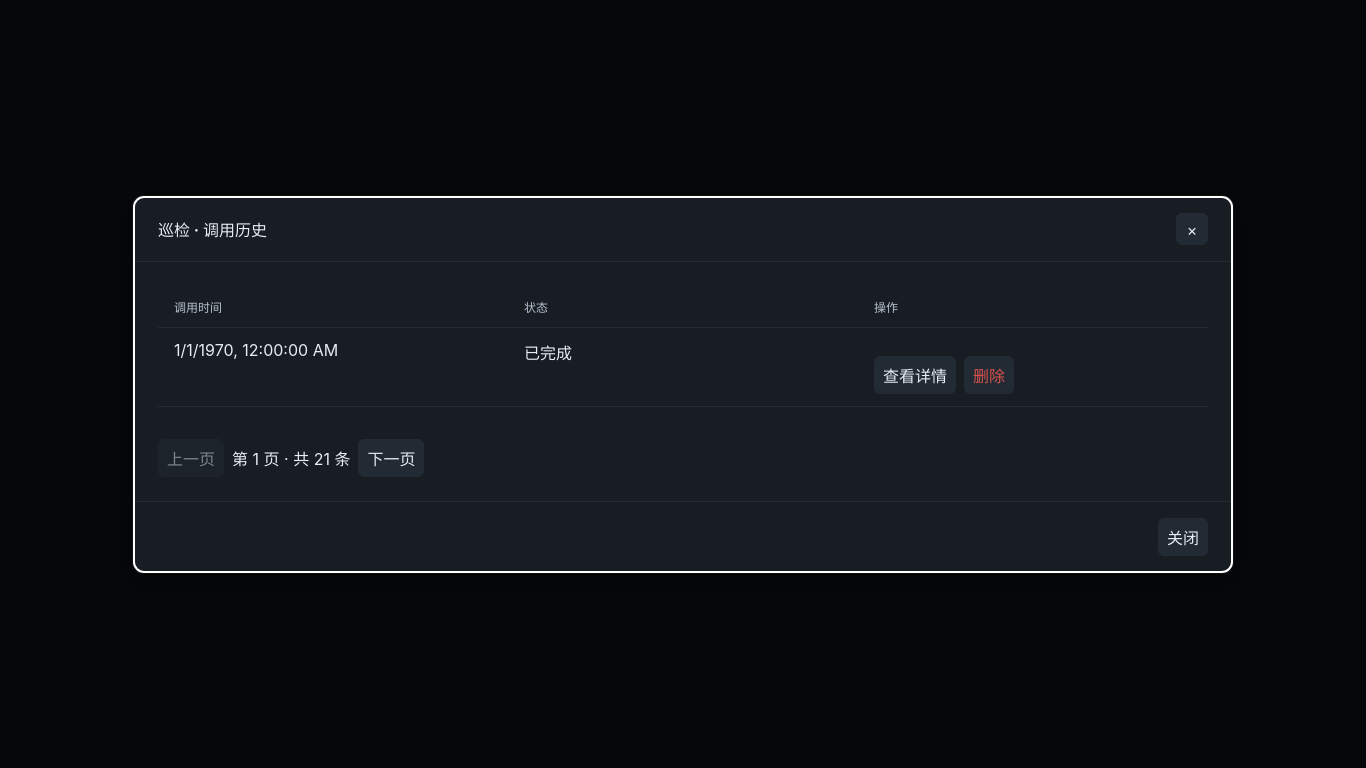
Test: returns to the previous page after deleting the last row
The image size is (1366, 768).
Expected: the button "删除" is shown, [964,356,1014,394]
Click the button "下一页" at (392, 458), box [358,438,424,476]
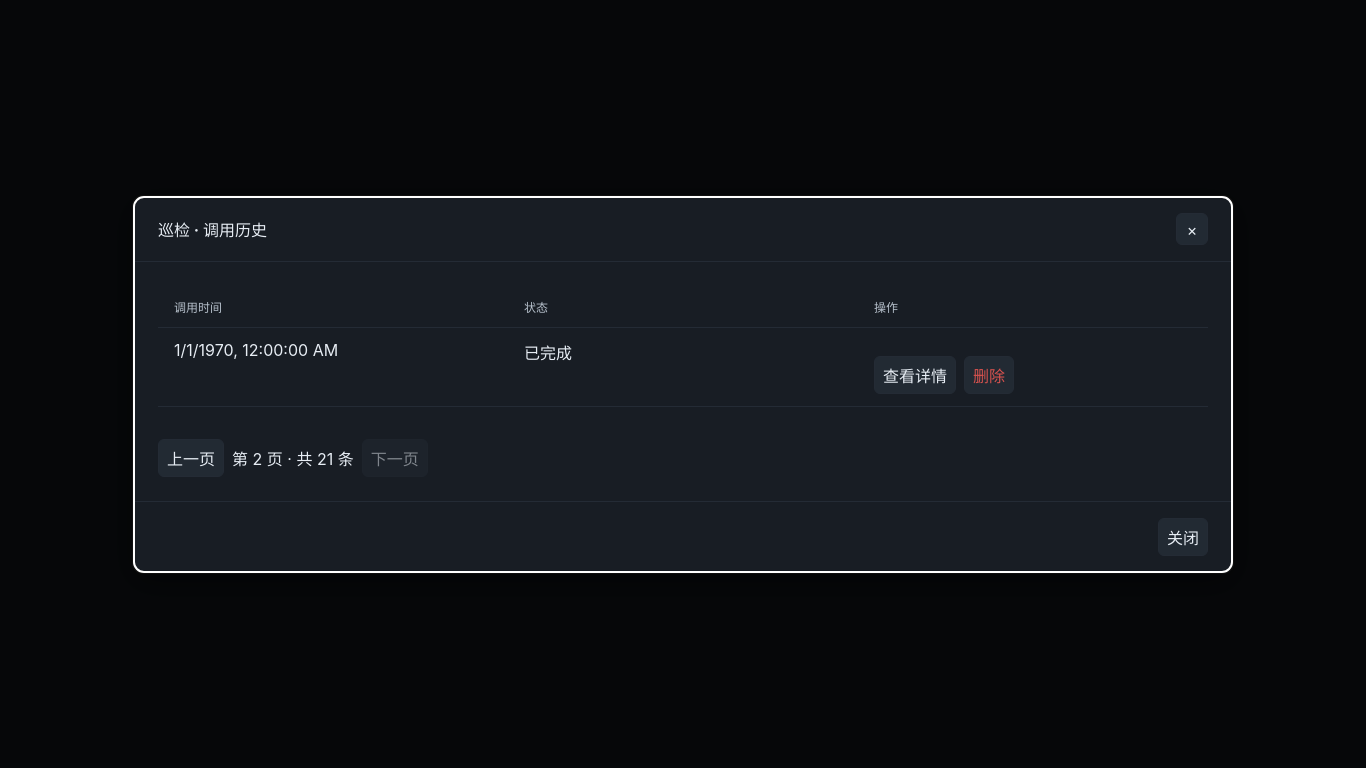
Click the button "删除" at (989, 374), box [964,356,1014,394]
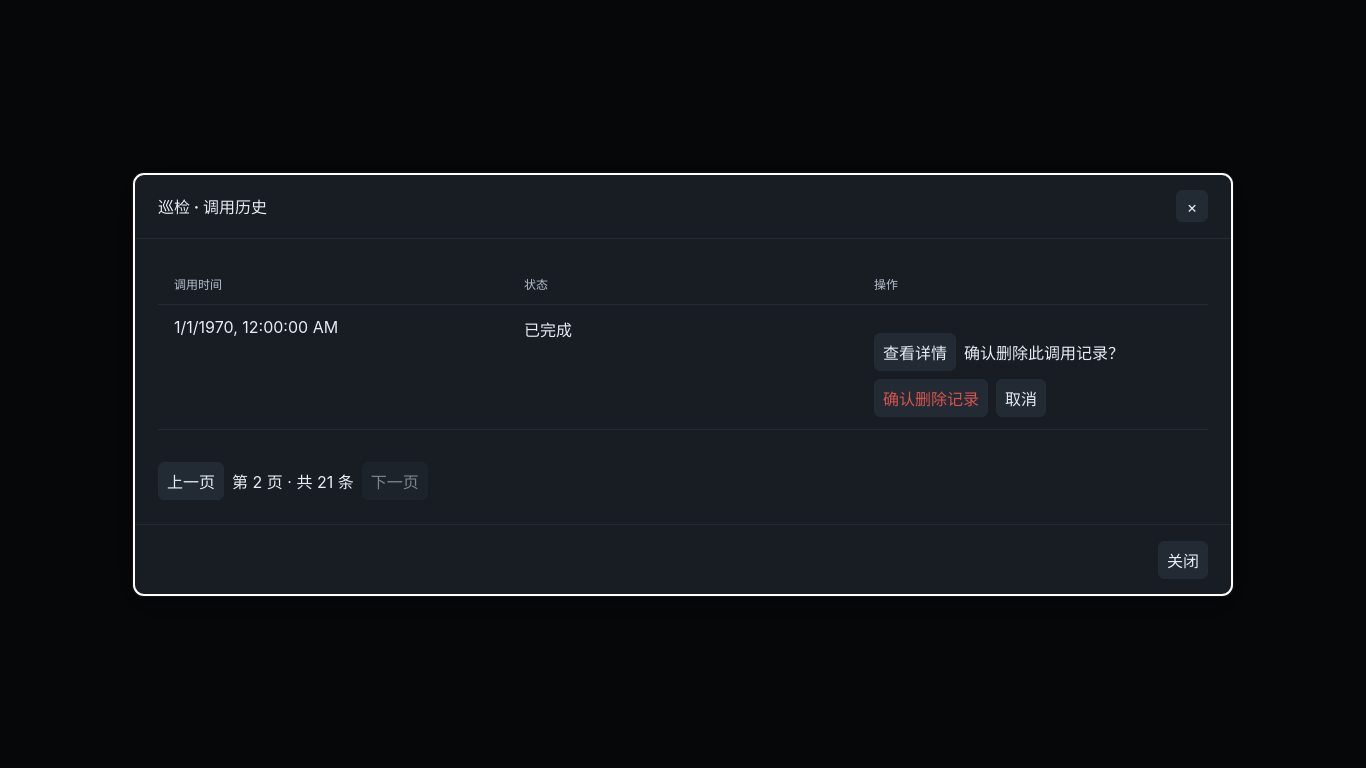
Click the button "确认删除记录" at (931, 398), box [874,378,988,416]
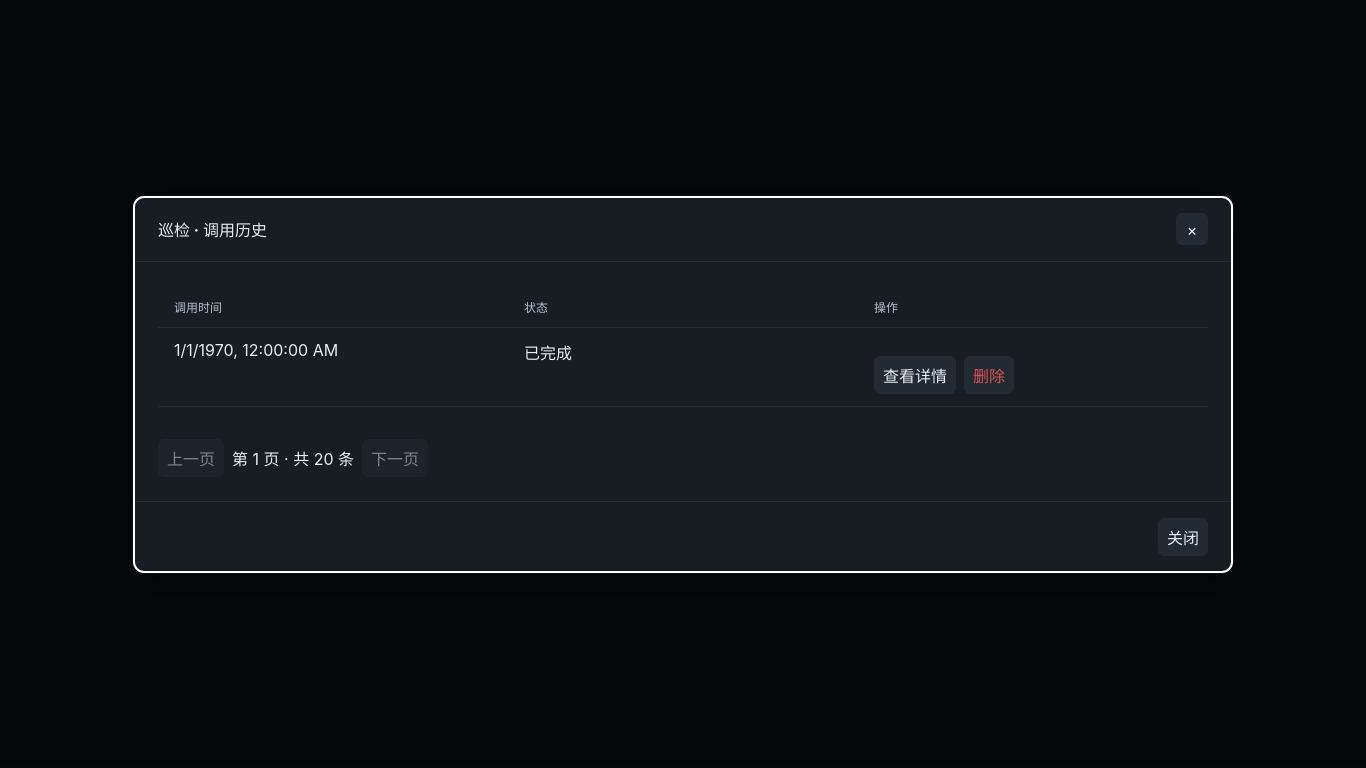
Expected: the text "第 1 页 · 共 20 条" is shown, [232,446,354,470]
